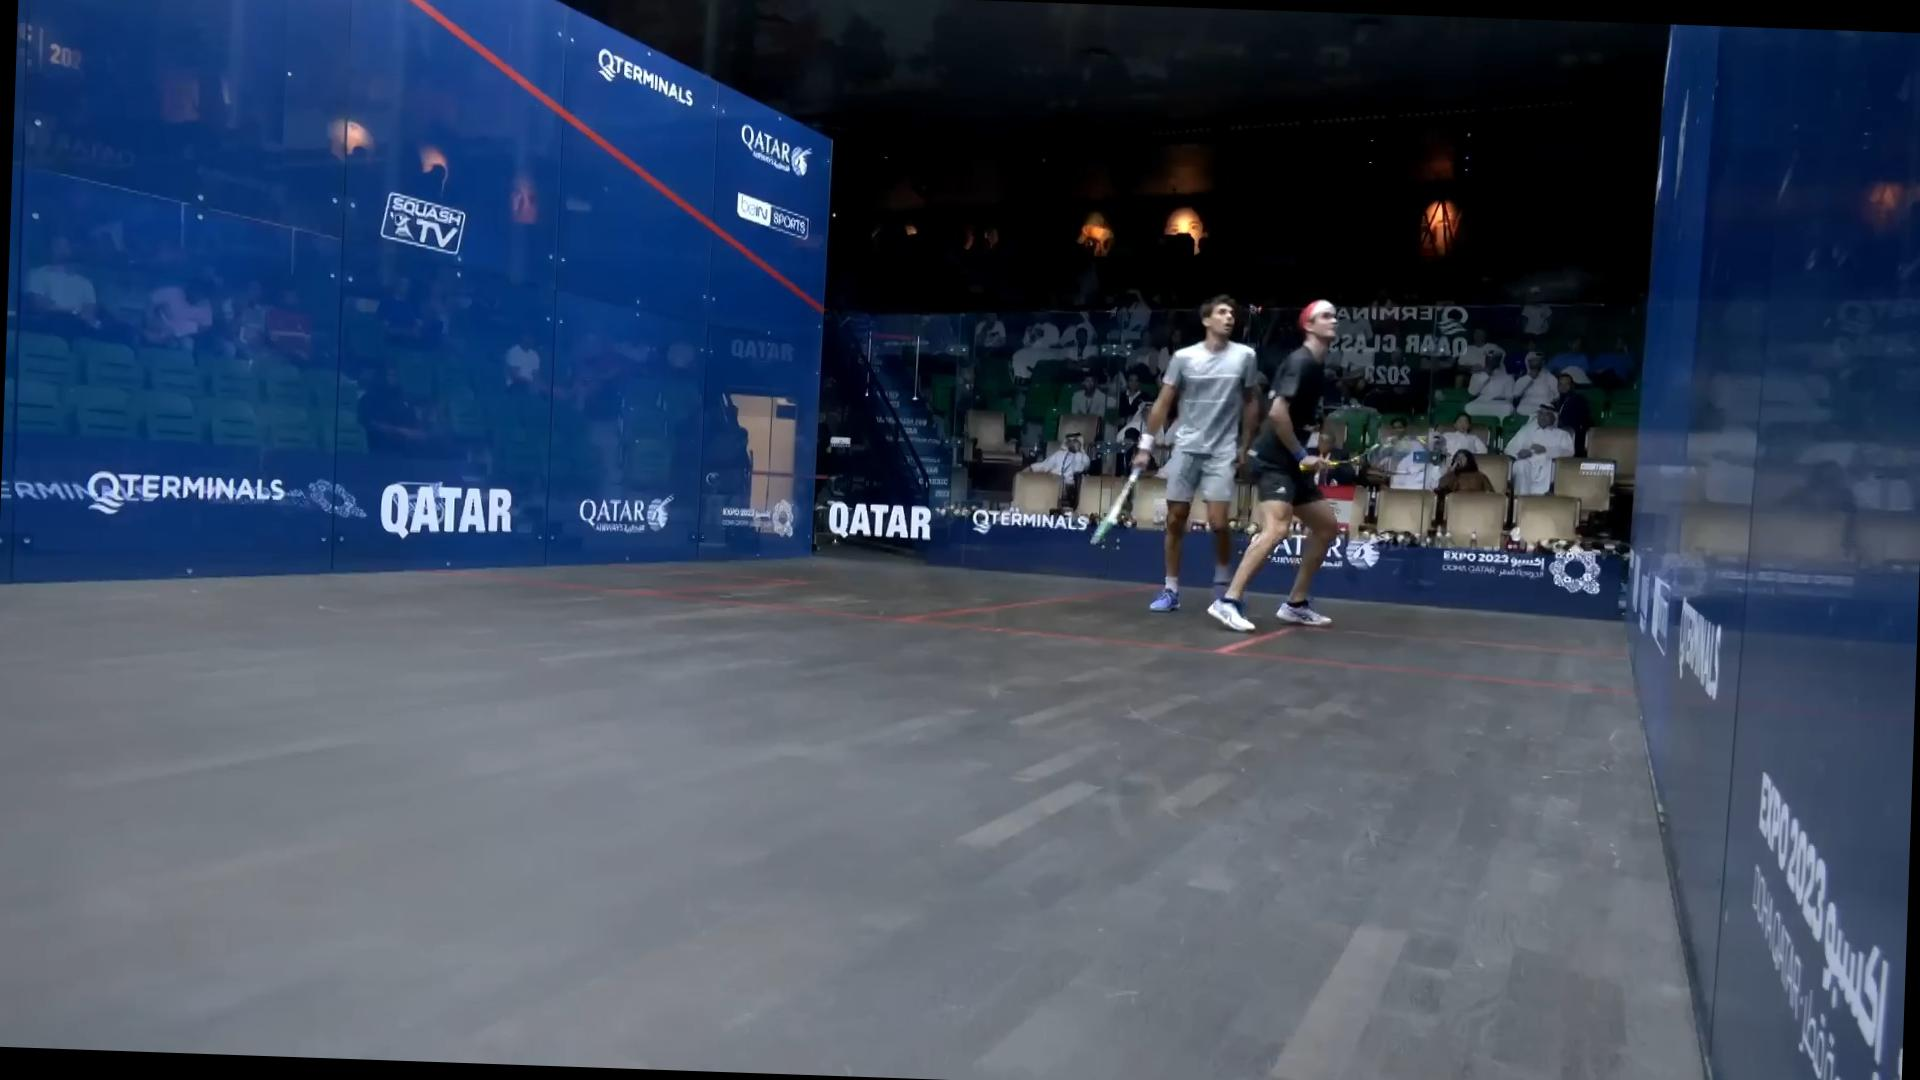Racket: (1325, 429, 1431, 480), (1088, 464, 1145, 546)
